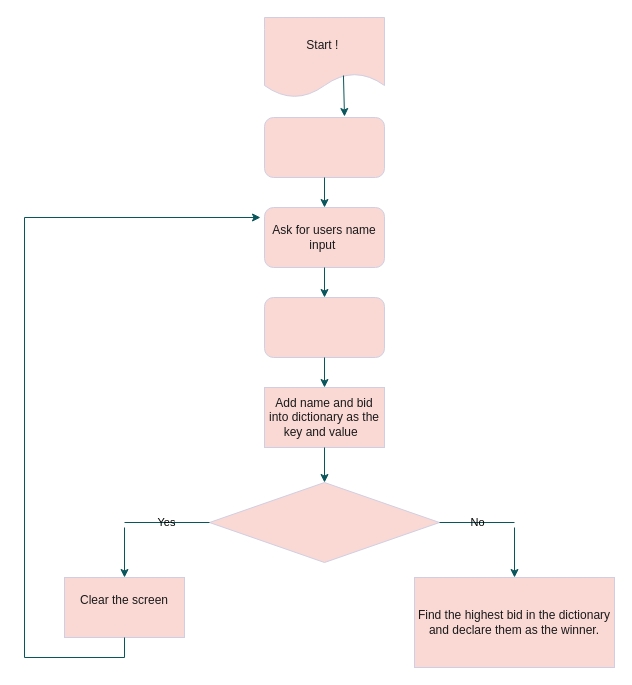
Some shapes in this 632 by 685 pixel diagram are drawn without their labels. The box of each missing label's shape, as (x1, y1, x2, y2) in pixels:
Ask for Bid Price: (264, 296, 384, 358)
Ask if another user wants to bid: (208, 482, 440, 562)
Show Logo from art.py: (264, 116, 384, 178)
